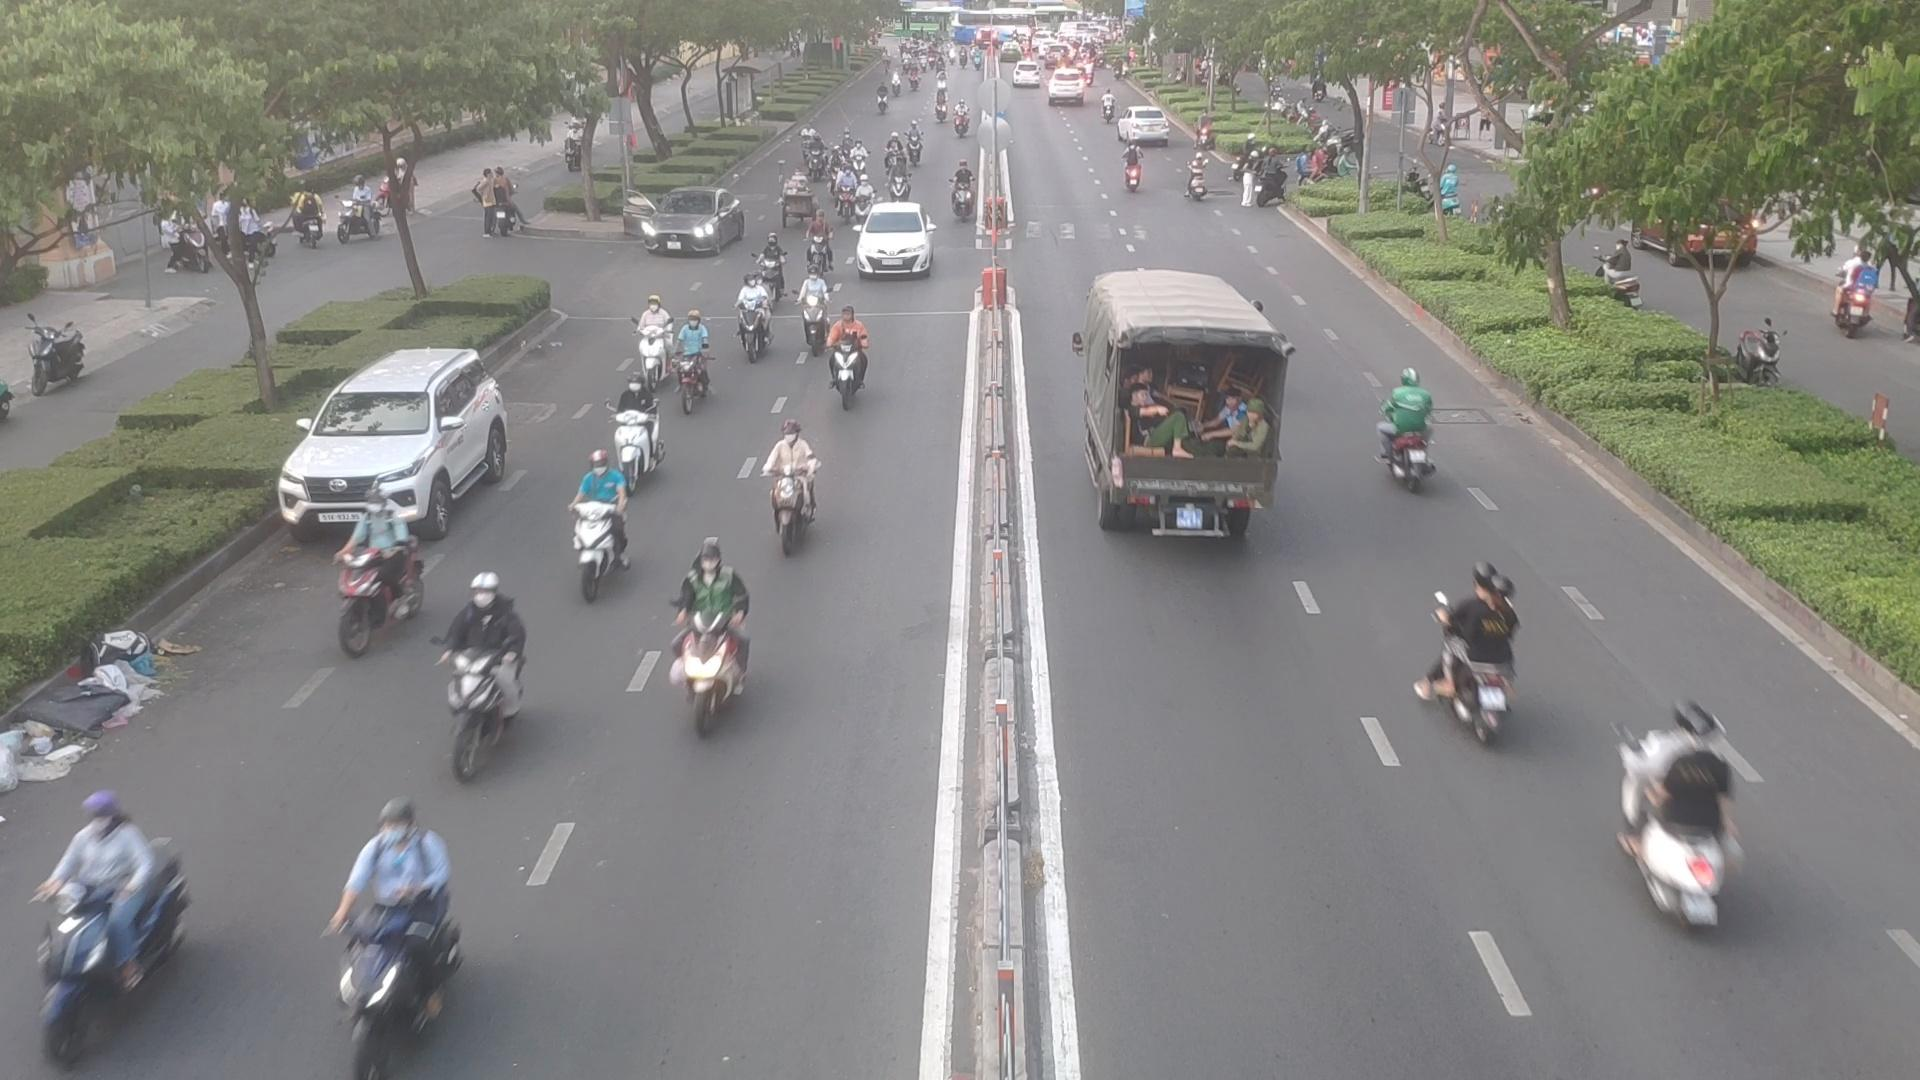car: (1071, 270, 1312, 554), (274, 345, 516, 538), (632, 193, 749, 261), (847, 203, 934, 280)
motorbike: (334, 803, 471, 1060), (1604, 703, 1741, 952), (38, 793, 175, 1042), (1414, 568, 1516, 738), (334, 497, 423, 674), (450, 574, 524, 773), (680, 547, 752, 745), (574, 448, 645, 593), (757, 425, 824, 570), (1379, 368, 1437, 489), (611, 375, 662, 476), (825, 313, 866, 407), (678, 306, 709, 413), (634, 291, 673, 377), (740, 274, 777, 353), (757, 223, 785, 295), (800, 270, 825, 342), (891, 158, 919, 214), (1184, 150, 1207, 216), (808, 214, 833, 272), (953, 160, 975, 225), (1122, 144, 1147, 190), (855, 171, 874, 224), (907, 119, 924, 166), (837, 170, 855, 214), (825, 142, 840, 193), (851, 136, 866, 175), (808, 135, 822, 175), (886, 131, 901, 166), (802, 121, 812, 156)
